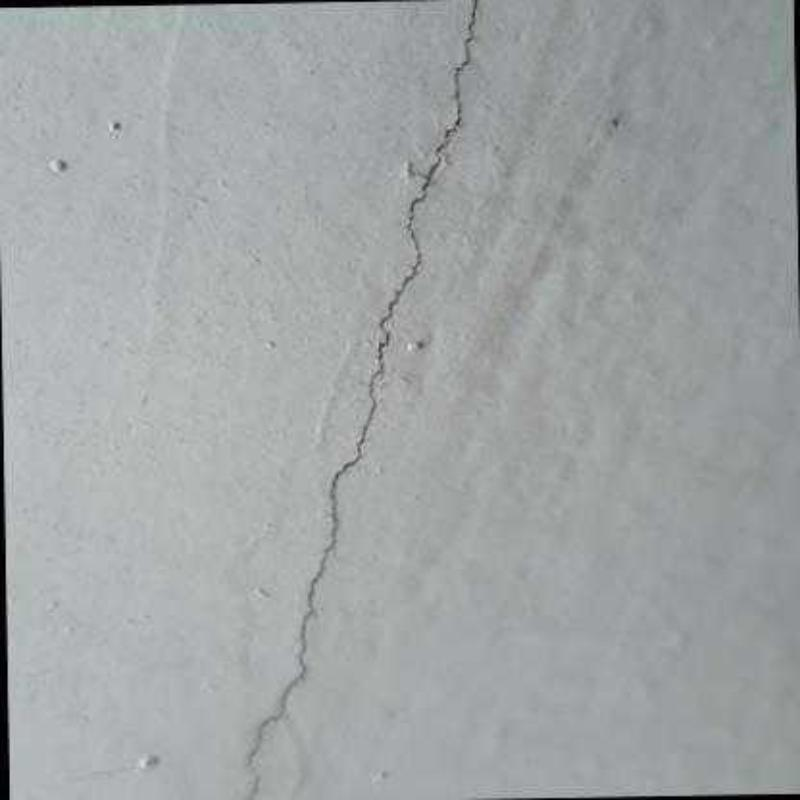pothole: (248, 1, 479, 798)
